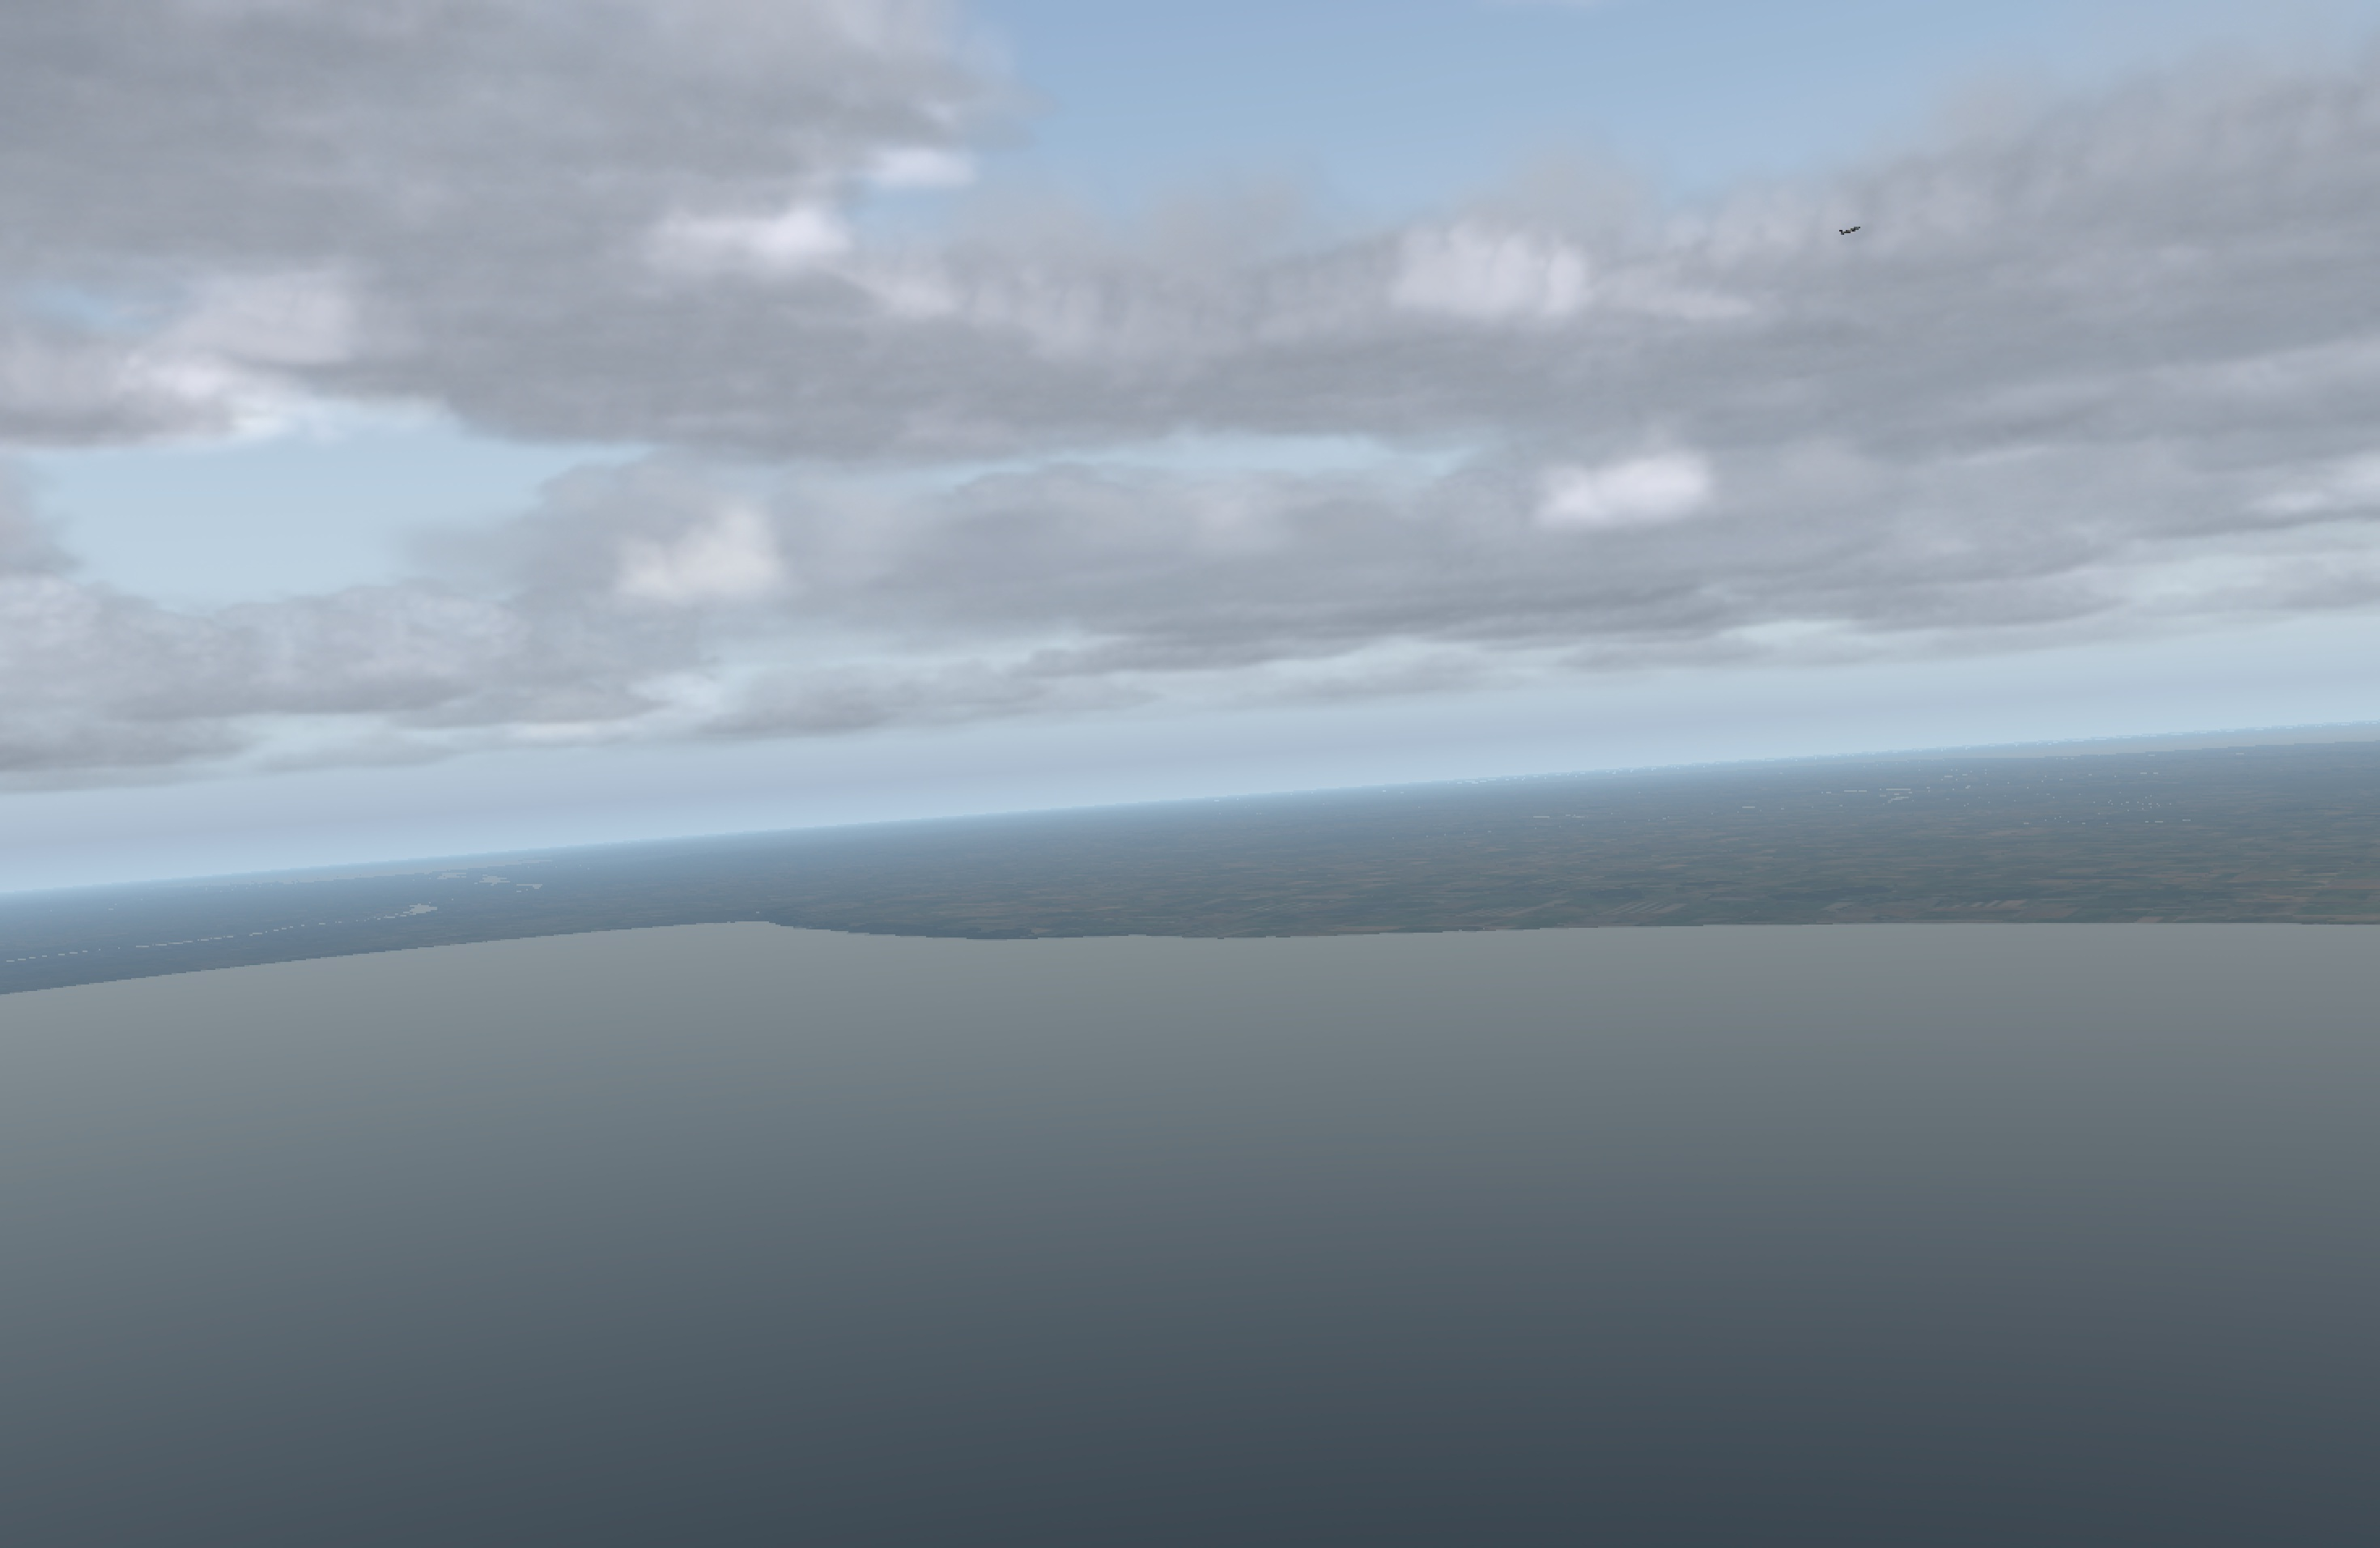aircraft: (1841, 226, 1868, 236)
